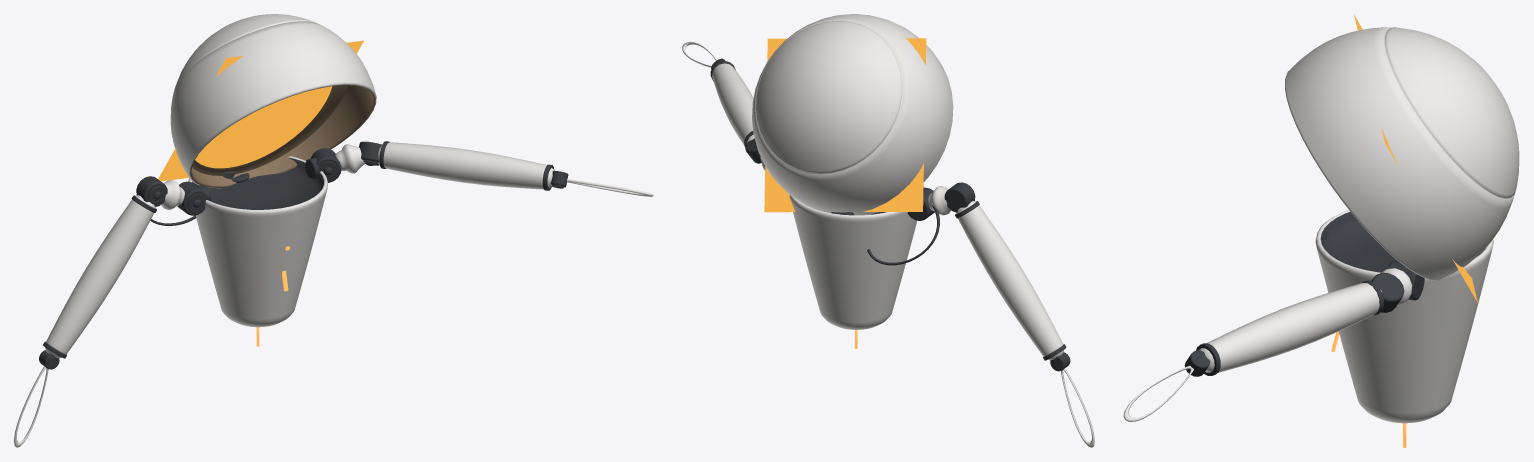
File: final_working.glb
3 views of the same model, side by side, from view 1: azimuth 30°, elevation 25°; view 2: azimuth 150°, elevation 25°; view 3: azimuth 270°, elevation 25° (orthographic). The views are drawn at different scales.
Parts seen in each view (by area): view 1: lamp-agent; view 2: lamp-agent; view 3: lamp-agent.
Part boxes in pixels (bbox=[...]): lamp-agent: bbox=[14, 14, 653, 447]; lamp-agent: bbox=[682, 14, 1094, 447]; lamp-agent: bbox=[1123, 15, 1519, 447].
Bounding box in the file's own units: 0.3994 × 0.2648 × 0.203.
